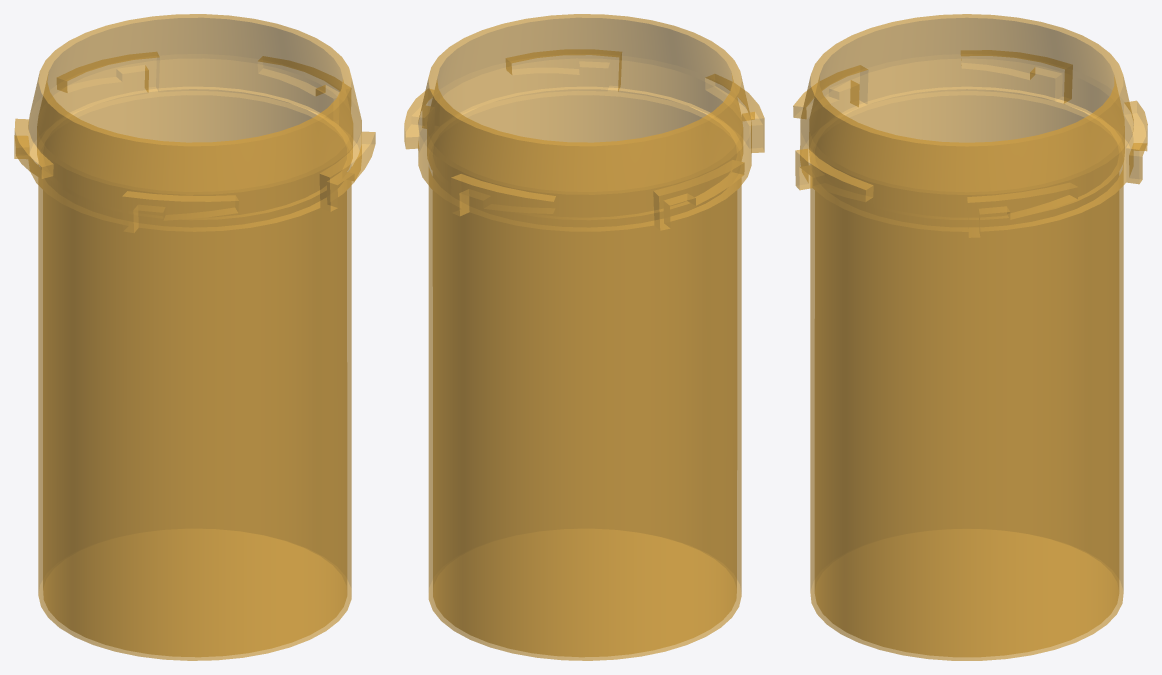
File: bottlebase.glb
3 renders of one model, left to right at view 1: azimuth 30°, elevation 25°; view 2: azimuth 150°, elevation 25°; view 3: azimuth 270°, elevation 25°, orthographic.
Parts seen in each view (by area): view 1: BOTTLE BASE (ZAYATZ-BEAMESDERFER); view 2: BOTTLE BASE (ZAYATZ-BEAMESDERFER); view 3: BOTTLE BASE (ZAYATZ-BEAMESDERFER).
Part boxes in pixels (x1,y1,x2,y2): BOTTLE BASE (ZAYATZ-BEAMESDERFER): (14,14,375,660); BOTTLE BASE (ZAYATZ-BEAMESDERFER): (404,14,764,660); BOTTLE BASE (ZAYATZ-BEAMESDERFER): (793,14,1147,660).
Size of the model in its own units: 0.0451 by 0.0709 by 0.0443.
